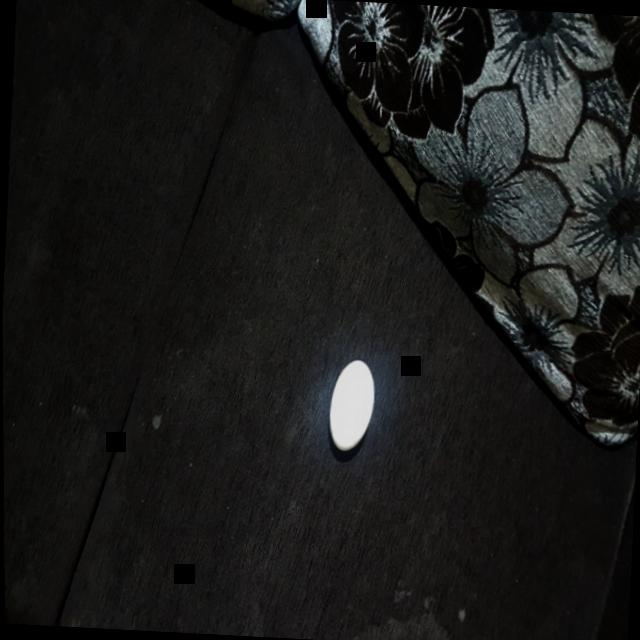eggs: (323, 358, 378, 458)
